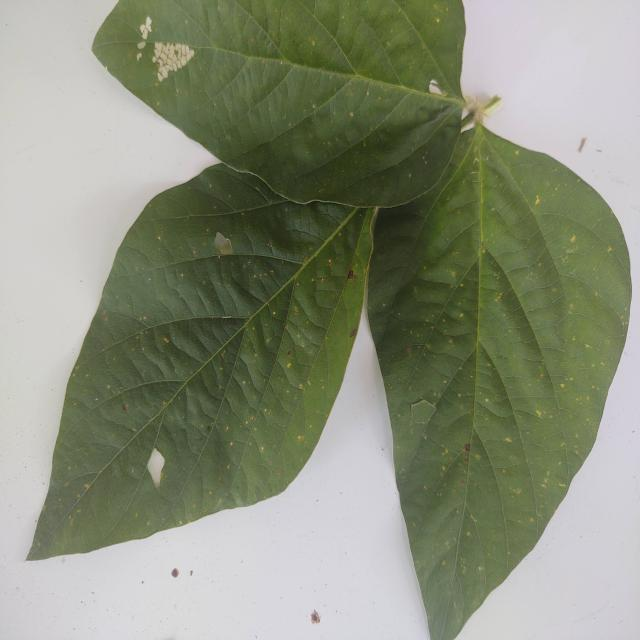Soybean: (5, 0, 632, 640)
downey_mildew: (543, 290, 620, 437), (153, 210, 282, 297), (282, 49, 382, 133), (489, 433, 565, 534), (426, 435, 492, 550), (135, 28, 226, 95), (413, 272, 469, 363), (231, 385, 288, 474), (535, 196, 540, 206), (504, 437, 512, 443), (607, 246, 613, 253), (570, 235, 576, 242), (163, 337, 169, 344), (585, 343, 591, 349), (407, 347, 412, 354), (287, 362, 292, 369), (74, 365, 79, 371), (560, 383, 565, 389), (84, 483, 89, 489), (515, 150, 519, 156), (451, 272, 455, 277), (460, 313, 464, 318), (362, 142, 366, 147), (157, 235, 161, 240), (143, 316, 147, 321), (349, 112, 353, 117), (229, 441, 233, 446), (156, 101, 160, 106), (180, 273, 184, 277), (267, 243, 271, 247), (193, 250, 196, 255), (408, 173, 411, 178), (312, 41, 315, 46)
